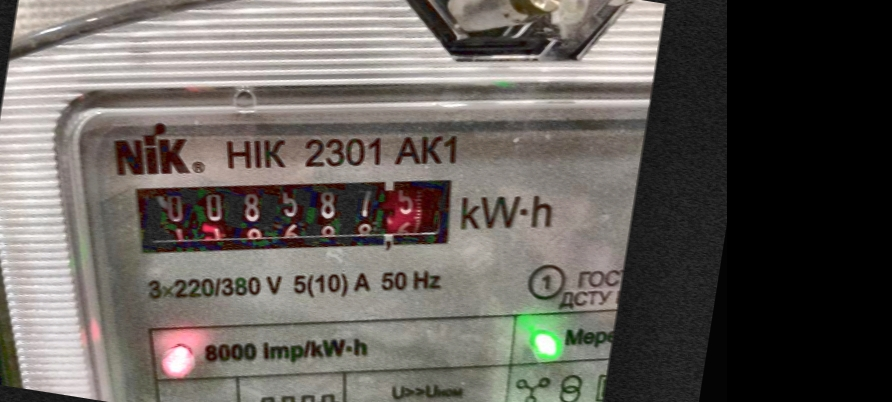0: (197, 186, 228, 224), (159, 188, 190, 224)
5: (275, 185, 303, 220), (391, 181, 418, 215)
6: (393, 217, 413, 236)
7: (351, 184, 378, 221)
8: (237, 189, 266, 224), (312, 185, 340, 221)
screen: (117, 129, 479, 304)
